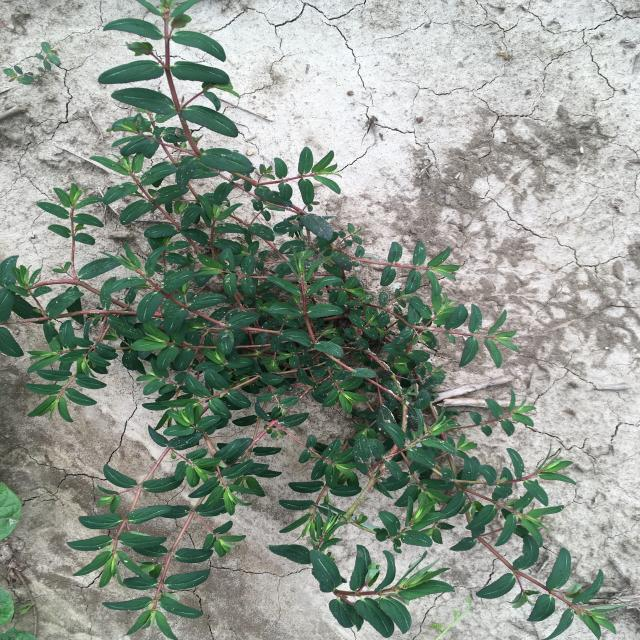SpottedSpurge: (0, 1, 630, 640), (3, 42, 61, 85)
